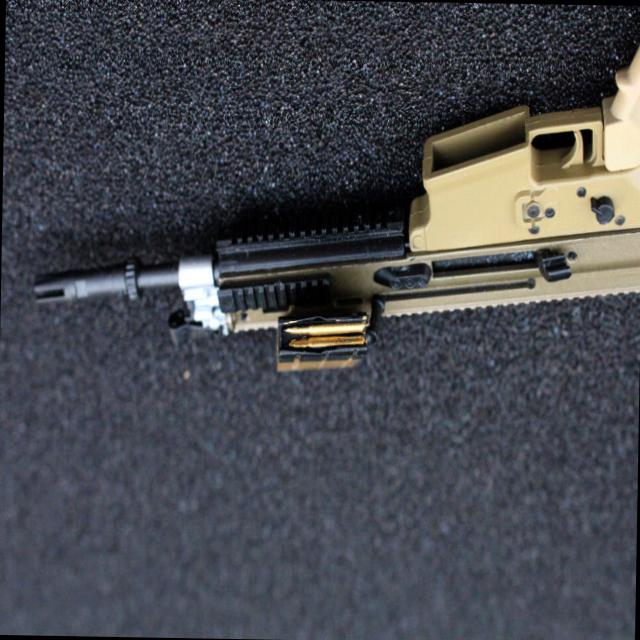Gun: (0, 0, 640, 369)
